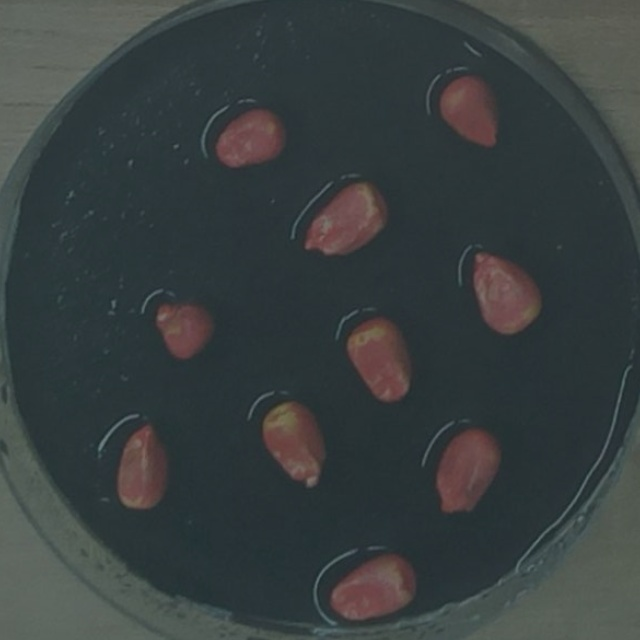Zea mays: (295, 170, 396, 264), (461, 242, 549, 345), (321, 545, 425, 630), (253, 394, 334, 500), (428, 421, 509, 523), (337, 311, 417, 411), (108, 417, 177, 520), (207, 101, 292, 177), (432, 68, 507, 154), (148, 294, 222, 369)
